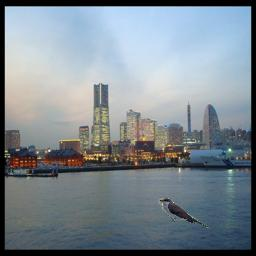Cuckoo: (158, 198, 211, 230)
